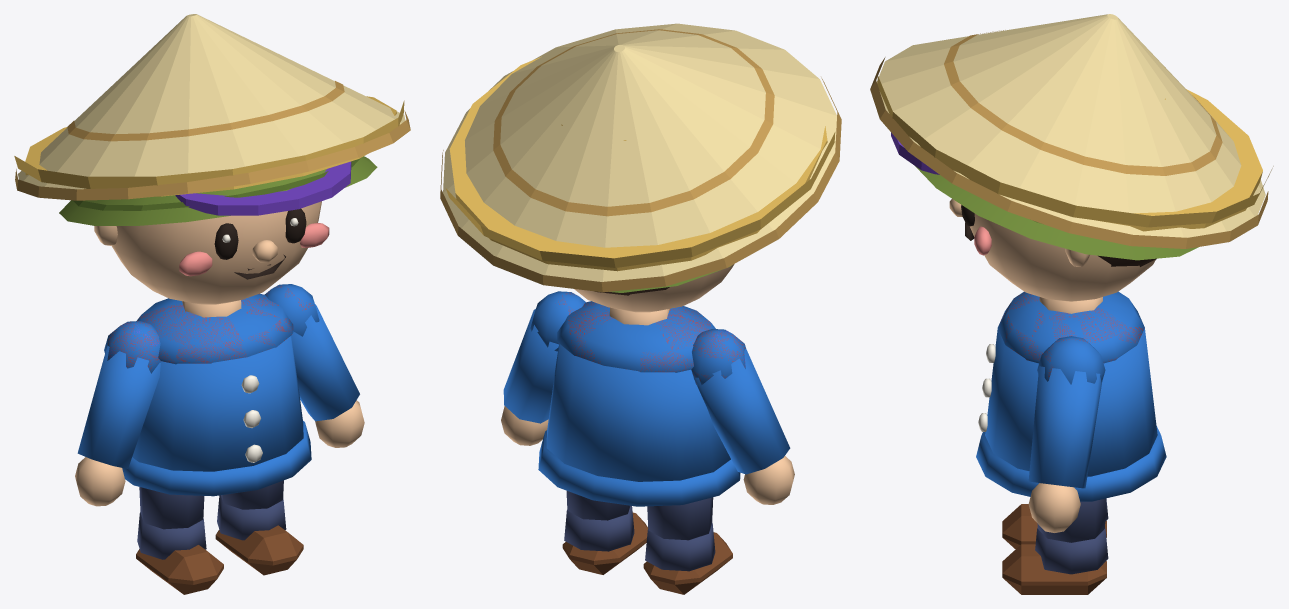
The model's file is characters-2661deddc9.glb.
3 renders of one model, left to right at view 1: azimuth 30°, elevation 25°; view 2: azimuth 150°, elevation 25°; view 3: azimuth 270°, elevation 25°, orthographic. The views are drawn at different scales.
Parts seen in each view (by area): view 1: head_non_la, character__nong_dan__non_la, head_non_tai_beo, arm_r_non_la, head_mu_rom, arm_l_non_la, head_mu_luoi_trai, character__nong_dan__mu_rom; view 2: head_non_la, character__nong_dan__non_la, head_mu_rom, arm_r_non_la, arm_l_non_la, head_non_tai_beo, character__nong_dan__mu_rom, head_mu_luoi_trai; view 3: head_non_la, character__nong_dan__non_la, arm_l_non_la, head_mu_rom, head_non_tai_beo, head_mu_luoi_trai, character__nong_dan__mu_rom.
Boxes of the visible parts, left/top/right/bottom form: head_non_la: left=15, top=14, right=410, bottom=304; character__nong_dan__non_la: left=122, top=293, right=311, bottom=594; head_non_tai_beo: left=59, top=156, right=377, bottom=303; arm_r_non_la: left=75, top=321, right=160, bottom=506; head_mu_rom: left=14, top=96, right=404, bottom=299; arm_l_non_la: left=264, top=284, right=364, bottom=447; head_mu_luoi_trai: left=100, top=161, right=351, bottom=304; character__nong_dan__mu_rom: left=138, top=294, right=292, bottom=461; head_non_la: left=440, top=23, right=841, bottom=299; character__nong_dan__non_la: left=538, top=301, right=740, bottom=594; head_mu_rom: left=445, top=56, right=835, bottom=304; arm_r_non_la: left=691, top=329, right=794, bottom=504; arm_l_non_la: left=501, top=291, right=586, bottom=445; head_non_tai_beo: left=575, top=264, right=734, bottom=310; character__nong_dan__mu_rom: left=568, top=302, right=710, bottom=372; head_mu_luoi_trai: left=576, top=265, right=731, bottom=312; head_non_la: left=870, top=14, right=1268, bottom=301; character__nong_dan__non_la: left=976, top=291, right=1166, bottom=594; arm_l_non_la: left=1028, top=336, right=1105, bottom=532; head_mu_rom: left=877, top=67, right=1273, bottom=298; head_non_tai_beo: left=915, top=166, right=1198, bottom=301; head_mu_luoi_trai: left=891, top=132, right=1155, bottom=301; character__nong_dan__mu_rom: left=980, top=293, right=1143, bottom=430.
Size of the model in its own units: 0.876 by 1.29 by 0.8518.
